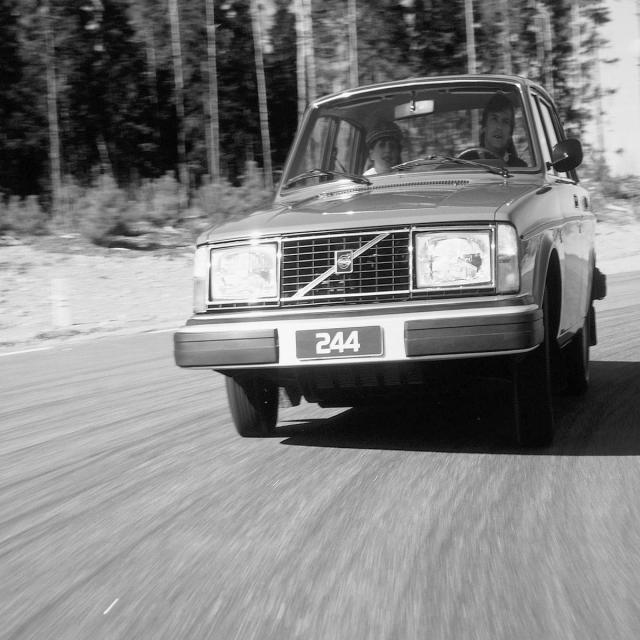car: (173, 72, 606, 448)
